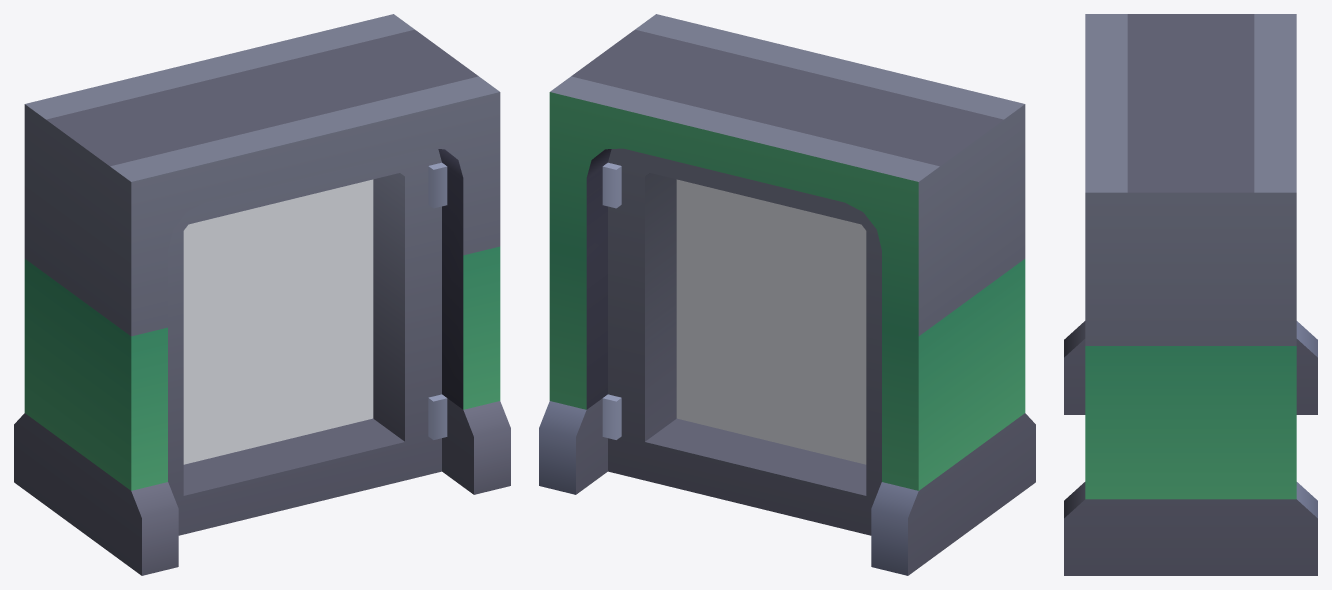
File: wall-window.obj
3 renders of one model, left to right at view 1: azimuth 30°, elevation 25°; view 2: azimuth 150°, elevation 25°; view 3: azimuth 270°, elevation 25°, orthographic.
Parts seen in each view (by area): view 1: wall-window, (%ignore), Group; view 2: wall-window, (%ignore), Group; view 3: wall-window.
Part boxes in pixels (left/top/right/bottom): wall-window: left=14, top=14, right=510, bottom=575; (%ignore): left=183, top=179, right=373, bottom=464; Group: left=168, top=148, right=441, bottom=535; wall-window: left=539, top=14, right=1035, bottom=575; (%ignore): left=676, top=179, right=866, bottom=464; Group: left=608, top=148, right=881, bottom=535; wall-window: left=1064, top=14, right=1317, bottom=575.
Bounding box in the file's own units: 1 × 1 × 0.6.
Materials: 2 (1 with a texture image).
